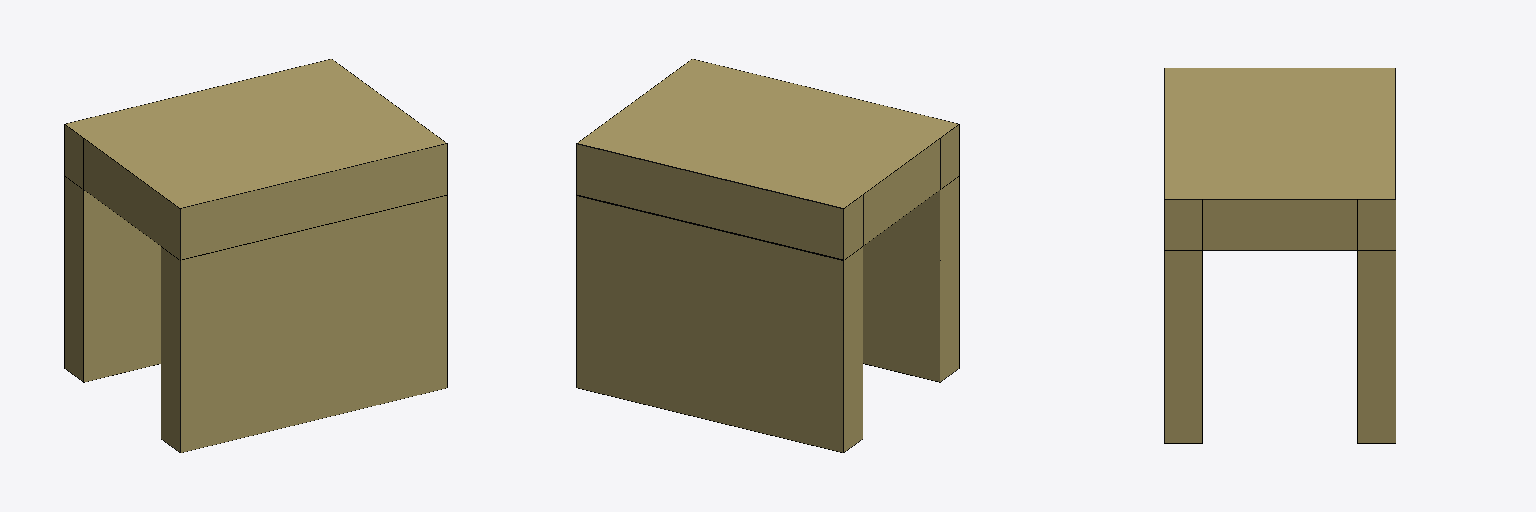
3 views of the same model, side by side, from view 1: azimuth 30°, elevation 25°; view 2: azimuth 150°, elevation 25°; view 3: azimuth 270°, elevation 25° (orthographic).
Visible parts, largest first — view 1: Bulkhead_wall_track_Cube.006; view 2: Bulkhead_wall_track_Cube.006; view 3: Bulkhead_wall_track_Cube.006.
Part boxes in pixels (bbox=[...]): Bulkhead_wall_track_Cube.006: bbox=[64, 59, 447, 452]; Bulkhead_wall_track_Cube.006: bbox=[576, 59, 959, 452]; Bulkhead_wall_track_Cube.006: bbox=[1164, 68, 1395, 443].
Size of the model in its own units: 2 by 1.75 by 1.5.
1 materials, 1 textured.